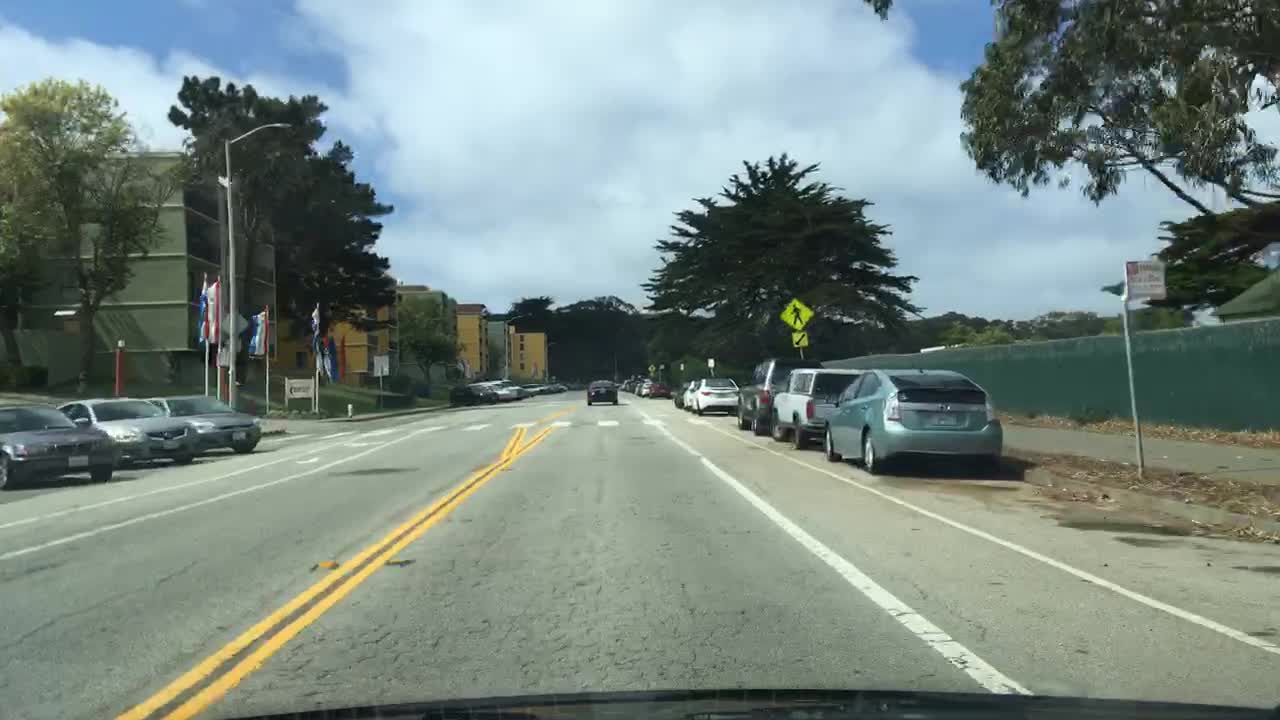car: (821, 367, 1004, 470), (52, 393, 199, 468), (0, 402, 118, 491), (767, 366, 871, 453), (140, 392, 261, 456), (734, 356, 826, 437), (691, 376, 743, 417), (446, 381, 501, 407), (470, 379, 513, 404), (585, 378, 619, 407), (474, 379, 519, 400), (496, 378, 529, 400), (680, 379, 701, 411), (672, 379, 690, 410), (648, 380, 674, 399), (633, 377, 655, 398), (624, 374, 641, 394), (519, 382, 541, 396), (529, 381, 547, 395), (548, 382, 563, 394), (537, 382, 552, 393), (618, 378, 631, 390), (562, 381, 576, 392), (575, 382, 587, 392), (612, 379, 624, 388)
traffic sign: (1126, 259, 1167, 301), (778, 296, 816, 331), (221, 310, 250, 337), (371, 353, 390, 373), (790, 330, 810, 347), (706, 357, 716, 369), (647, 363, 657, 372), (677, 362, 686, 372)
